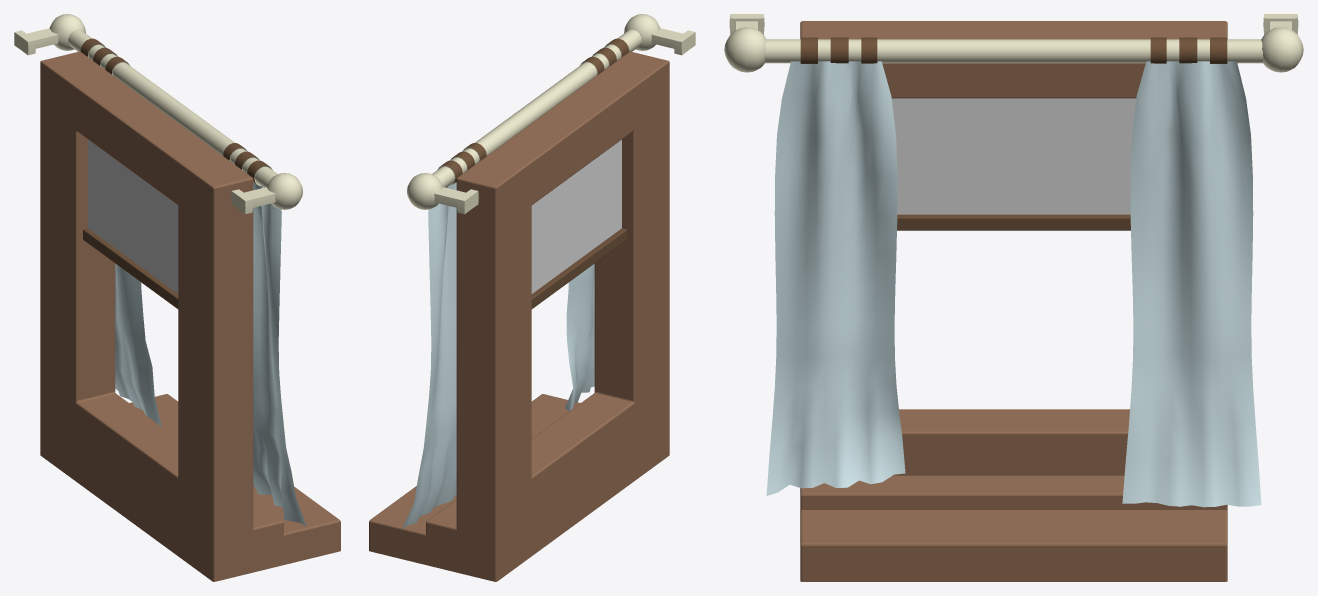
File: finestra.fbx
3 views of the same model, side by side, from view 1: azimuth 30°, elevation 25°; view 2: azimuth 150°, elevation 25°; view 3: azimuth 270°, elevation 25° (orthographic). The views are drawn at different scales.
Parts seen in each view (by area): view 1: Ventana, Plane, Cube.001, Barra, Sphere, Cube; view 2: Ventana, Plane, Cube.001, Barra, Sphere, Cube; view 3: Plane, Ventana, Cube.001, Barra, Sphere, Cube.
Boxes of the visible parts, x1,y1,x2,y2 form: Ventana: (40, 51, 340, 581); Plane: (115, 182, 306, 526); Cube.001: (88, 139, 178, 293); Barra: (68, 29, 277, 187); Sphere: (14, 14, 302, 214); Cube: (83, 228, 178, 308); Ventana: (369, 51, 669, 581); Plane: (401, 182, 594, 530); Cube.001: (531, 139, 621, 293); Barra: (432, 29, 641, 187); Sphere: (407, 14, 695, 214); Cube: (531, 228, 626, 308); Plane: (766, 61, 1261, 507); Ventana: (800, 21, 1227, 581); Cube.001: (891, 98, 1136, 214); Barra: (764, 37, 1263, 63); Sphere: (724, 14, 1303, 72); Cube: (897, 214, 1130, 230).
Size of the model in its own units: 84.96 by 261 by 271.
